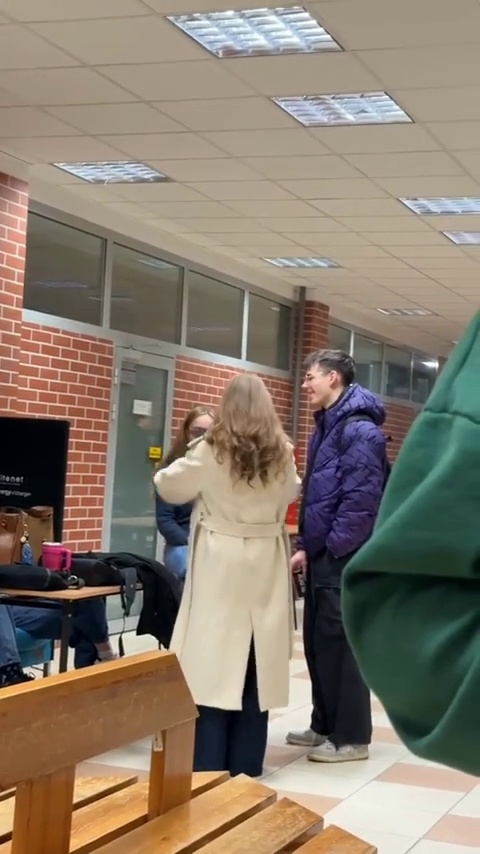no vest: (170, 367, 290, 733), (290, 337, 391, 731)
